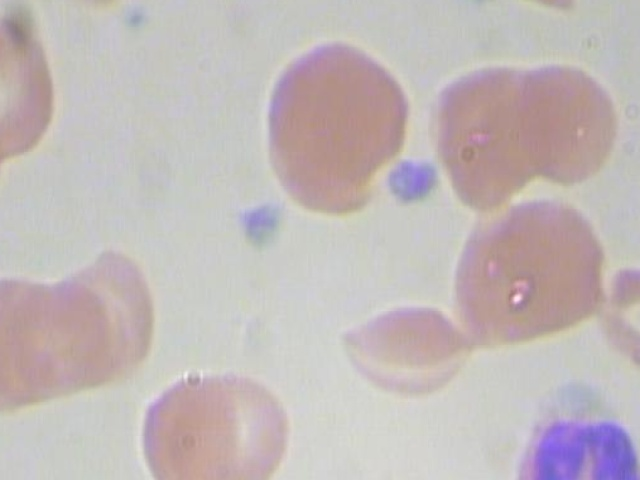Platelets: (496, 402, 640, 480), (385, 150, 449, 216), (230, 193, 296, 253), (458, 0, 508, 5)
RBC: (256, 30, 420, 218), (449, 189, 611, 363), (425, 60, 553, 215), (43, 244, 156, 402), (330, 283, 478, 398), (502, 54, 627, 188), (188, 358, 301, 480), (125, 365, 238, 480), (597, 257, 640, 380), (38, 0, 151, 15)
